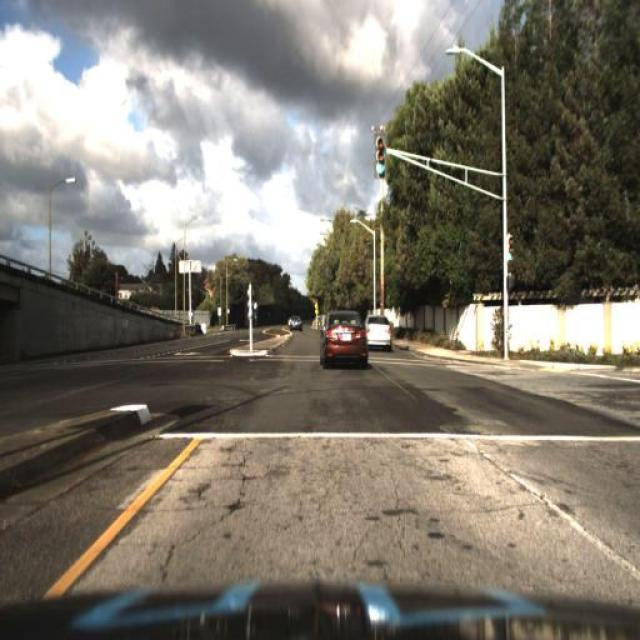car: (318, 297, 370, 368), (362, 312, 393, 353), (286, 307, 302, 331)
trafficLight-GreenLeft: (373, 124, 389, 180)
